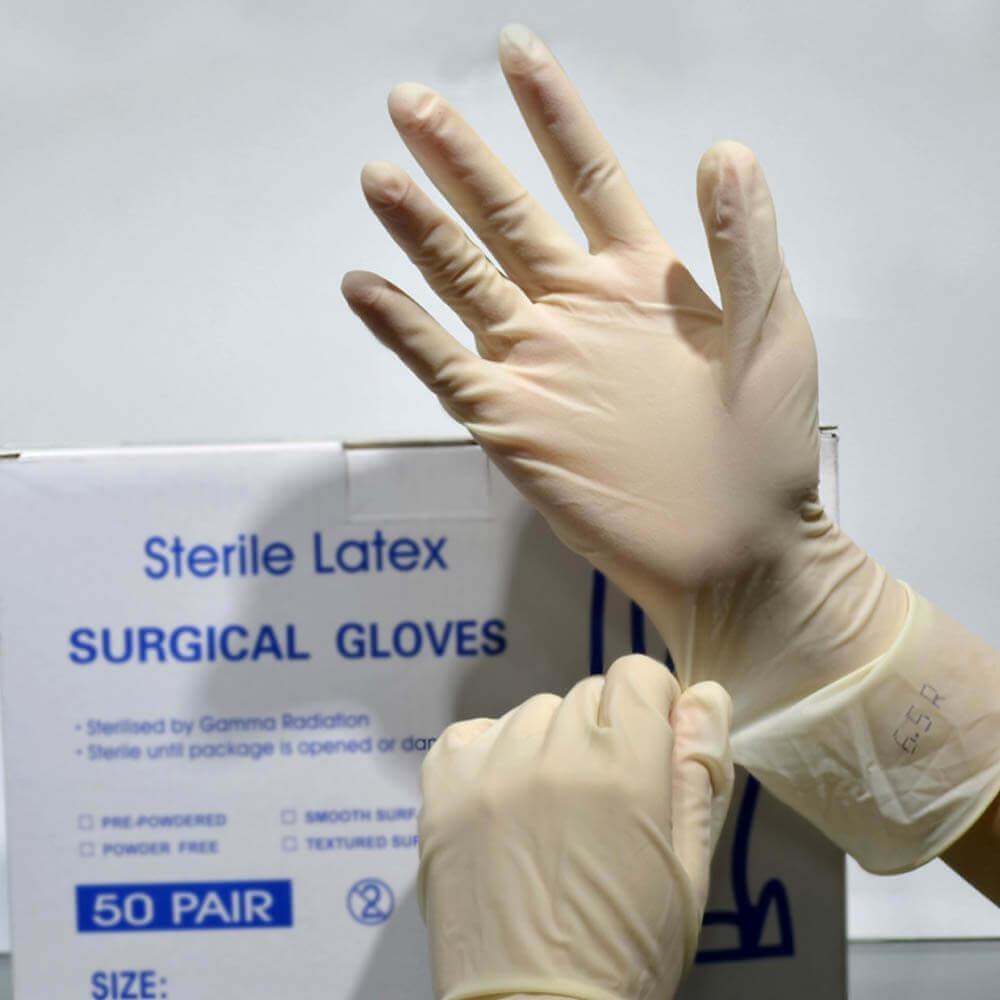Glove: (344, 28, 999, 869), (418, 655, 732, 999)
